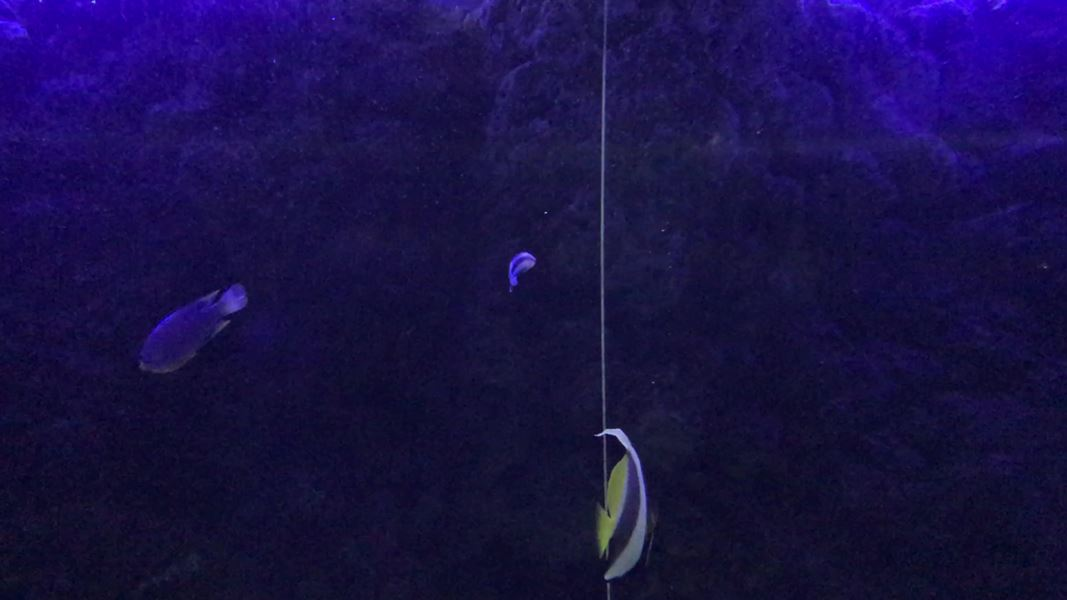Bluesteak cleaner wrasse: (498, 245, 542, 298)
